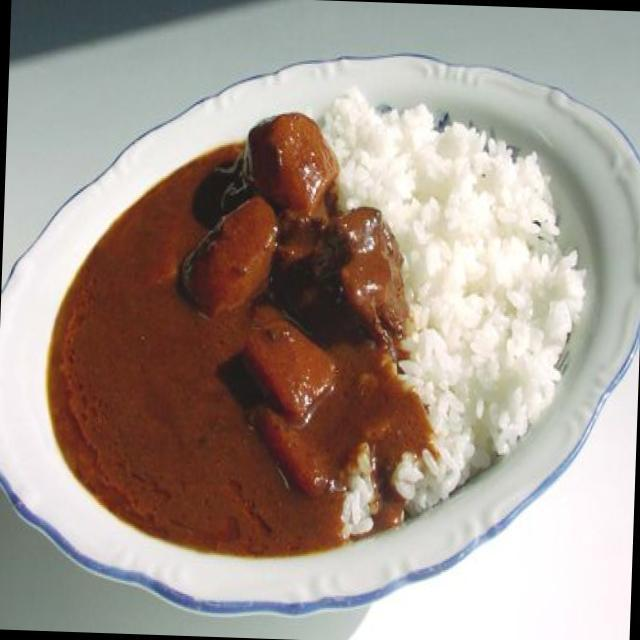Beef Curry: (238, 18, 640, 374)
